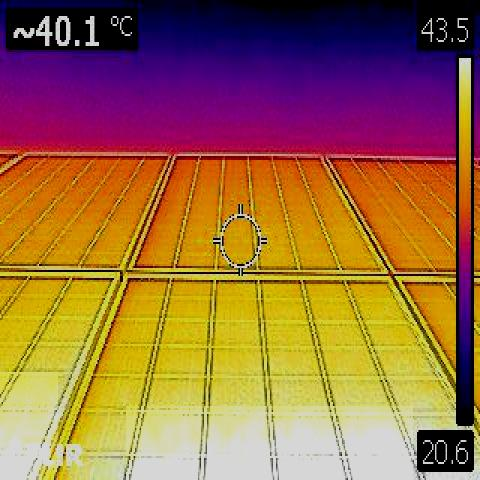fault: (126, 406, 413, 480), (0, 372, 58, 480)
